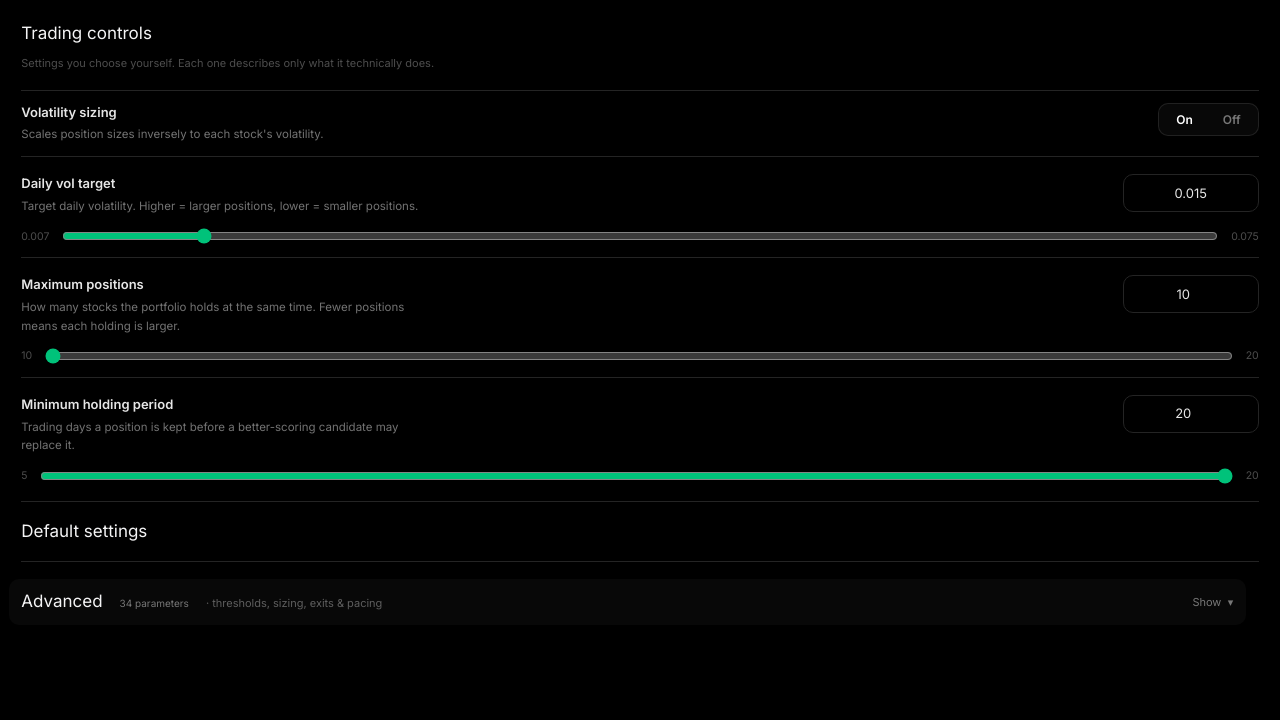
Test: #3132 portfolio-shape controls › a failed audit write persists nothing and does not restart
Set the slider named "Maximum positions slider" to "20" at (1225, 356), box [45, 348, 1233, 364]
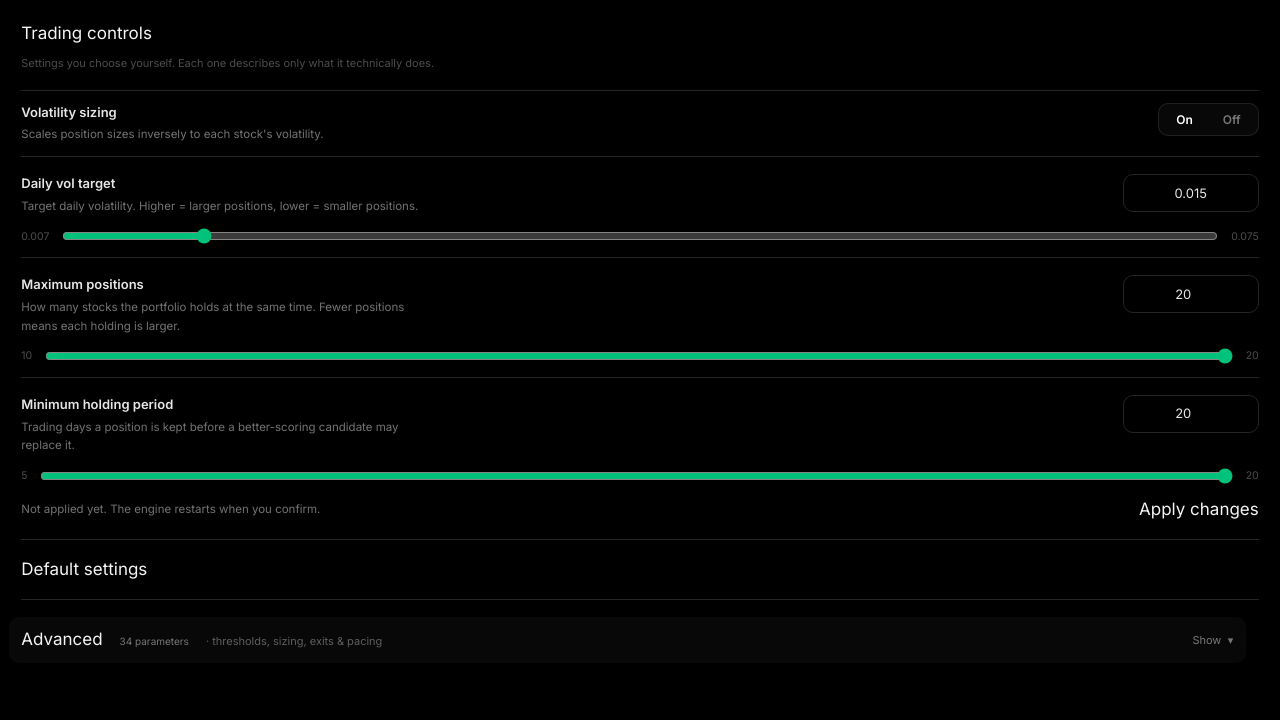
Click the button "Apply changes" at (1199, 509), box [1139, 496, 1259, 522]
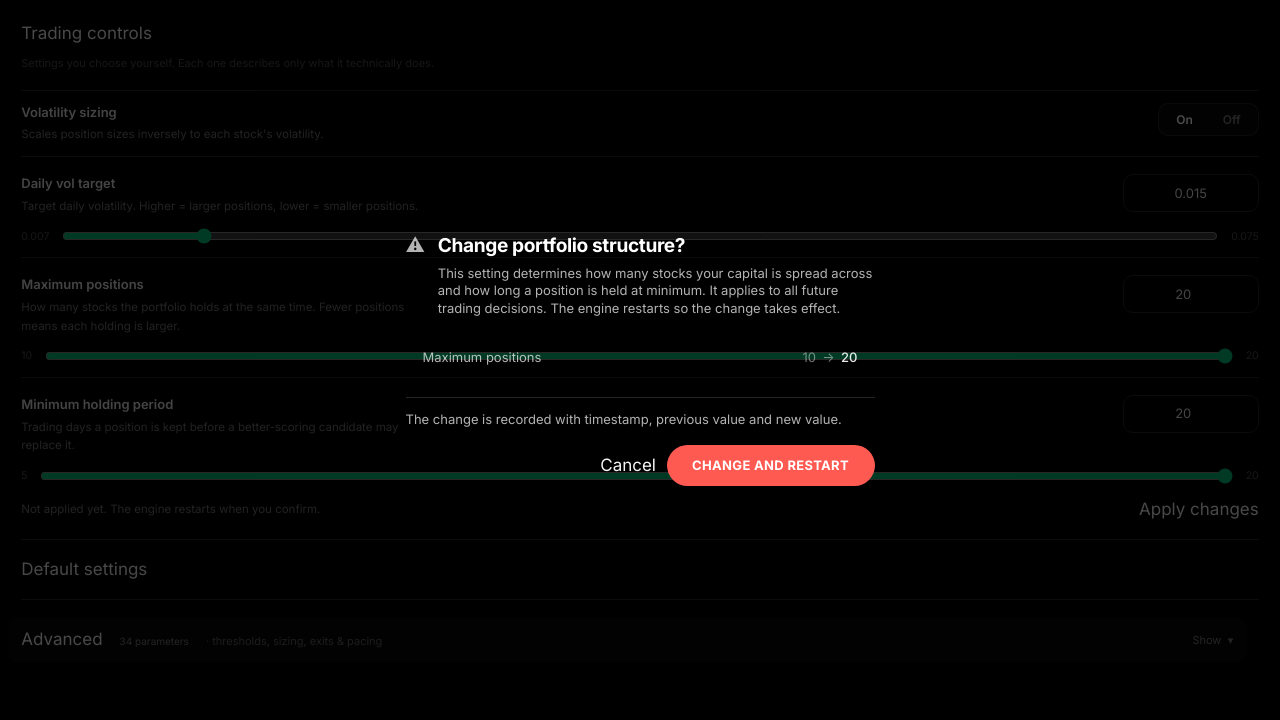
Click the button "Change and restart" at (771, 466), box [667, 445, 874, 486]
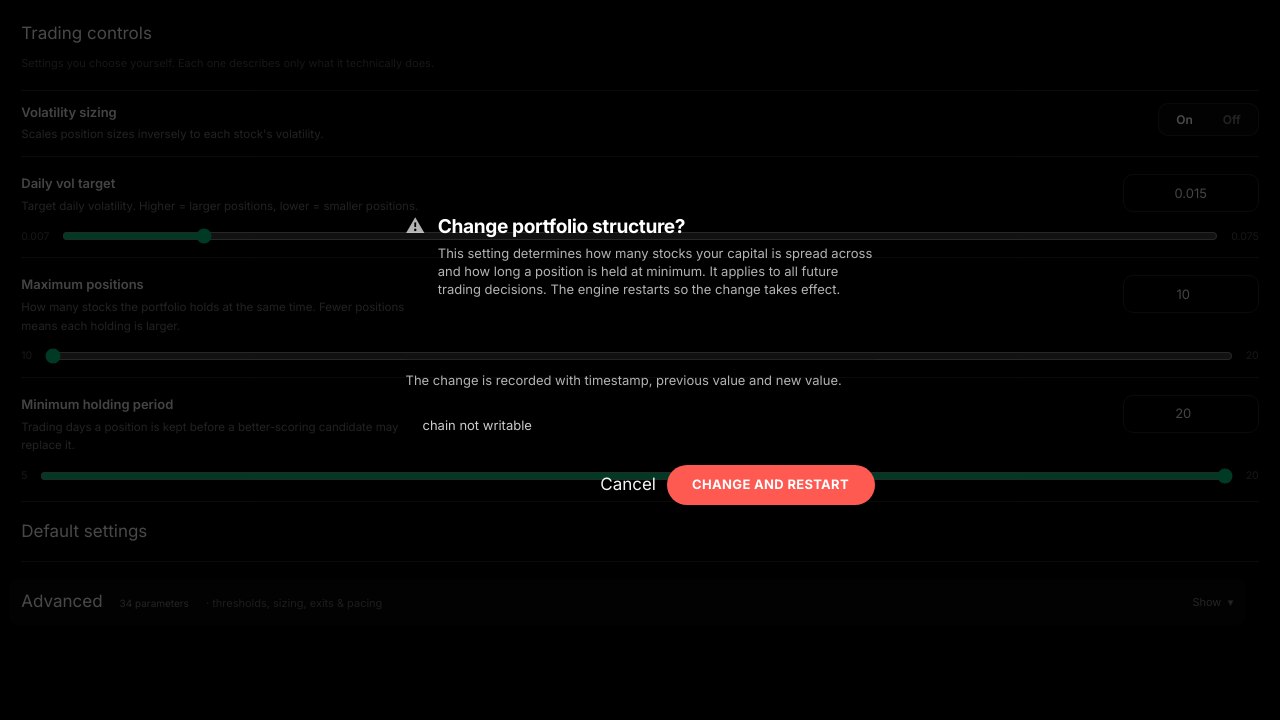
Now the message "chain not writable" is shown, box [422, 417, 532, 433]
